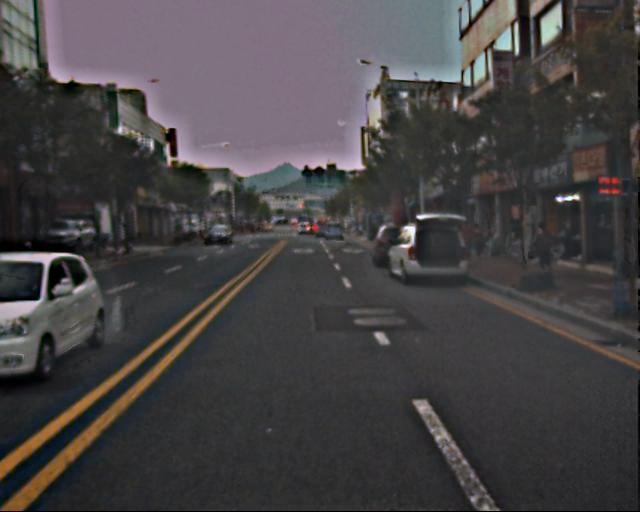person: (532, 222, 555, 278), (458, 218, 476, 261), (473, 224, 487, 259)
